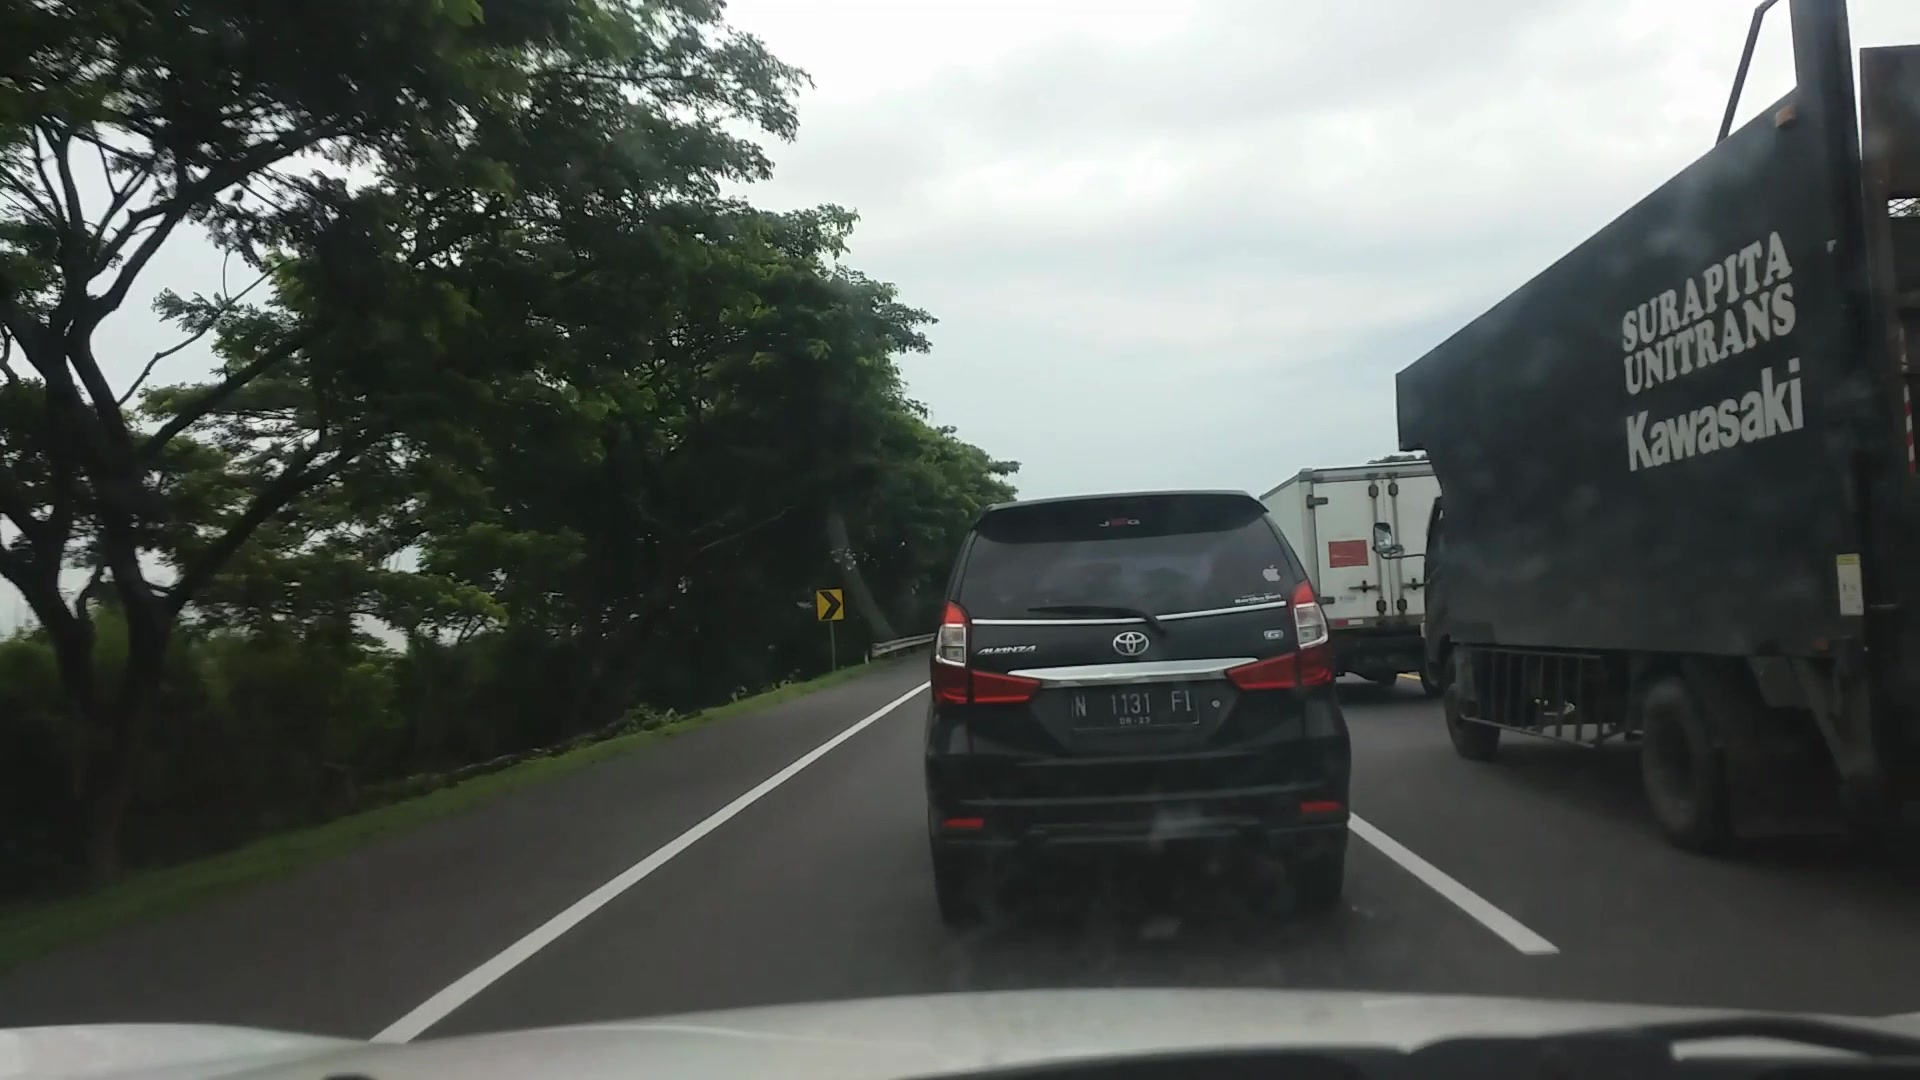plate_positive: (1068, 686, 1199, 727)
